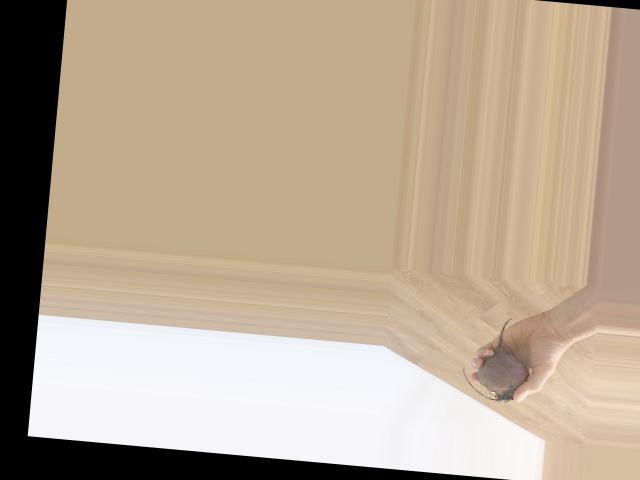beet: (459, 314, 533, 404)
